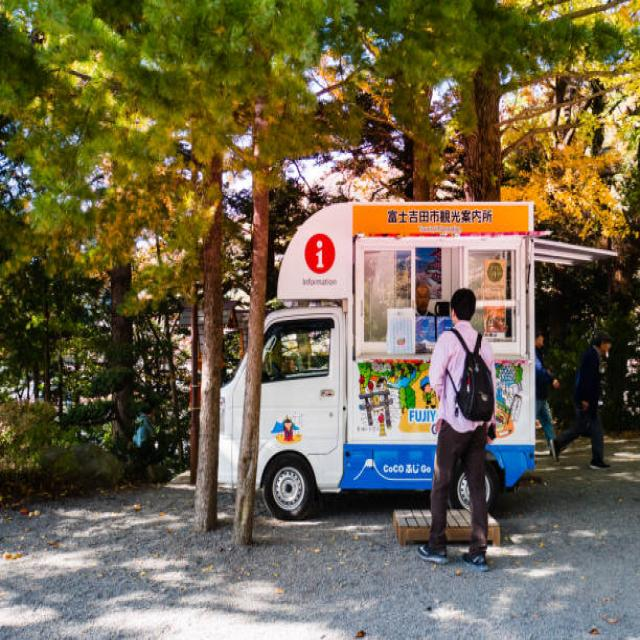Emperan: (189, 182, 627, 548)
